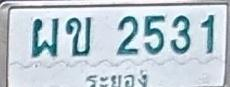1: (200, 15, 214, 54)
2: (116, 15, 138, 55)
3: (170, 14, 191, 54)
5: (144, 15, 166, 54)
A02: (65, 16, 92, 56)
A28: (31, 17, 59, 58)
RYG: (80, 68, 154, 87)
